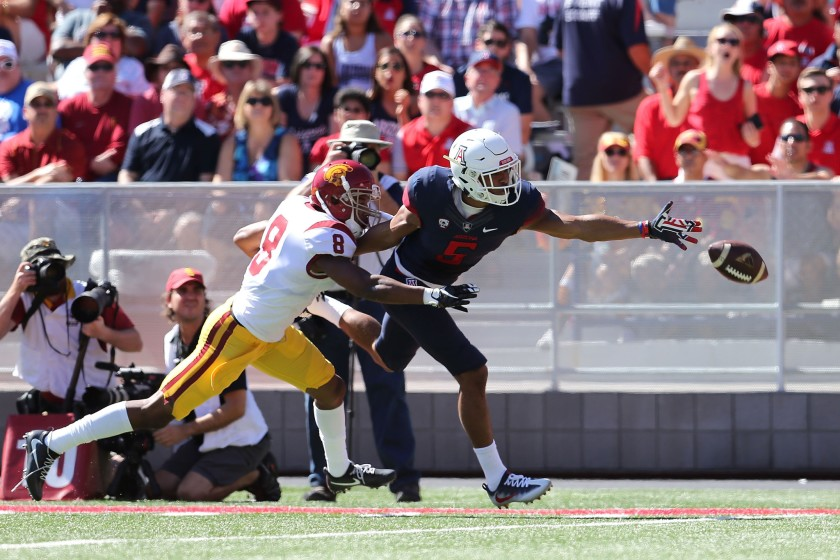futbol americano: (708, 240, 769, 284)
